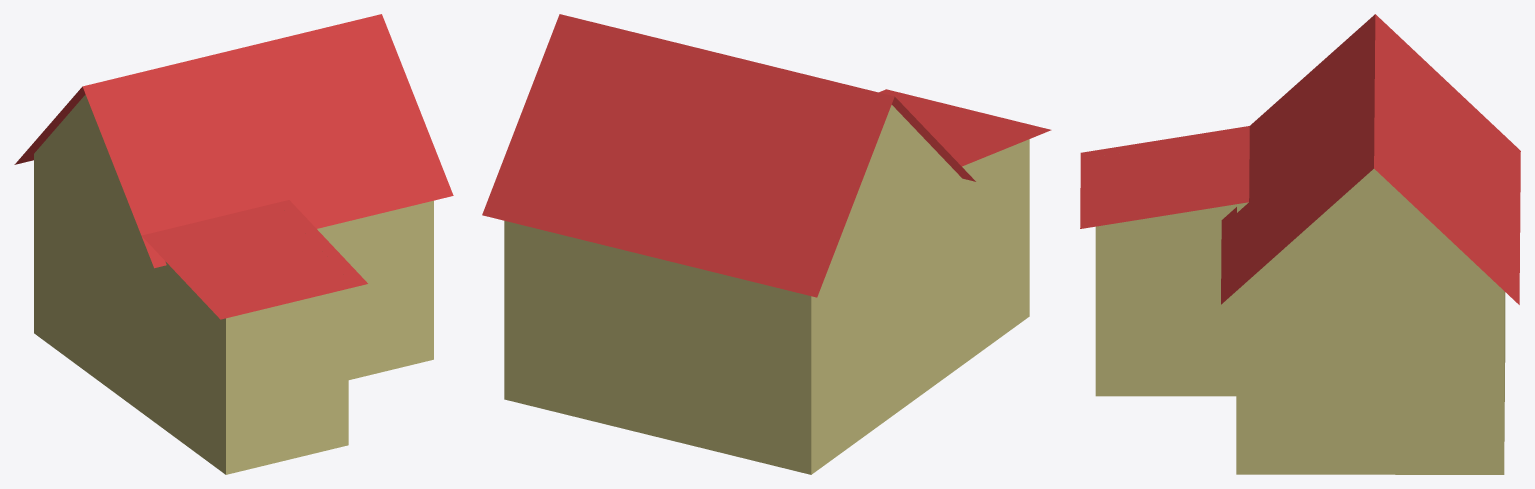
The picture shows the model from 3 angles, left to right: view 1: azimuth 30°, elevation 25°; view 2: azimuth 150°, elevation 25°; view 3: azimuth 270°, elevation 25°; orthographic projection. The views are drawn at different scales.
Size of the model in its own units: 11.93 by 14.32 by 11.21.
